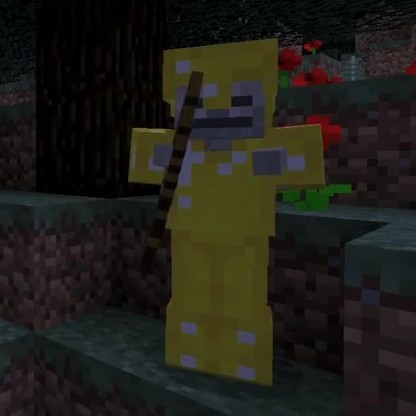skeleton: (143, 37, 305, 385)
